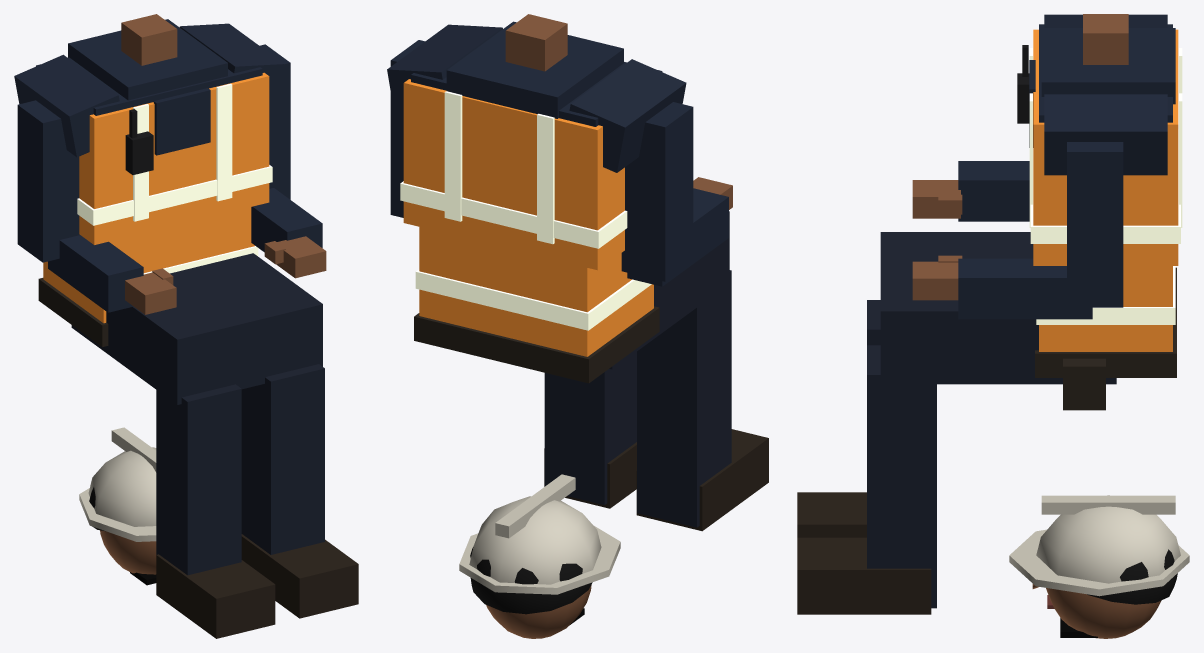
The model's file is passenger_mta.fbx.
3 renders of one model, left to right at view 1: azimuth 30°, elevation 25°; view 2: azimuth 150°, elevation 25°; view 3: azimuth 270°, elevation 25°, orthographic. The views are drawn at different scales.
Visible parts, largest first — view 1: Mesh_10, Mesh_9, Mesh_12, Mesh_11, Mesh_13, Mesh_7, Body_Skin, Mesh_15, Head_Skin, Mesh_14; view 2: Mesh_12, Mesh_9, Mesh_10, Mesh_13, Mesh_7, Mesh_15, Mesh_11, Body_Skin, Mesh_0, Head_Skin; view 3: Mesh_9, Mesh_10, Mesh_12, Mesh_7, Mesh_11, Body_Skin, Mesh_15, Mesh_13, Head_Skin, Mesh_0, Mesh_14.
Part boxes in pixels (x1=…): Mesh_10: x1=71, y1=253, x2=324, y2=575; Mesh_9: x1=14, y1=19, x2=322, y2=312; Mesh_12: x1=43, y1=72, x2=269, y2=323; Mesh_11: x1=156, y1=534, x2=358, y2=638; Mesh_13: x1=77, y1=83, x2=272, y2=274; Mesh_7: x1=79, y1=427, x2=156, y2=541; Body_Skin: x1=121, y1=14, x2=326, y2=314; Mesh_15: x1=38, y1=278, x2=108, y2=347; Head_Skin: x1=100, y1=530, x2=156, y2=574; Mesh_14: x1=125, y1=109, x2=153, y2=174; Mesh_12: x1=403, y1=79, x2=653, y2=356; Mesh_9: x1=387, y1=21, x2=728, y2=286; Mesh_10: x1=544, y1=211, x2=731, y2=527; Mesh_13: x1=400, y1=91, x2=651, y2=330; Mesh_7: x1=459, y1=474, x2=620, y2=594; Mesh_15: x1=414, y1=306, x2=659, y2=383; Mesh_11: x1=544, y1=429, x2=768, y2=531; Body_Skin: x1=505, y1=14, x2=732, y2=209; Mesh_0: x1=470, y1=547, x2=592, y2=614; Head_Skin: x1=486, y1=585, x2=591, y2=638; Mesh_9: x1=958, y1=14, x2=1175, y2=319; Mesh_10: x1=867, y1=232, x2=1116, y2=608; Mesh_12: x1=1033, y1=29, x2=1178, y2=351; Mesh_7: x1=1009, y1=495, x2=1189, y2=596; Mesh_11: x1=797, y1=492, x2=931, y2=614; Body_Skin: x1=912, y1=14, x2=1128, y2=300; Mesh_15: x1=1035, y1=267, x2=1176, y2=410; Mesh_13: x1=1029, y1=48, x2=1182, y2=324; Head_Skin: x1=1032, y1=584, x2=1161, y2=638; Mesh_0: x1=1087, y1=549, x2=1177, y2=604; Mesh_14: x1=1017, y1=45, x2=1029, y2=123.
Bounding box in the file's own units: 0.595 × 1.26 × 0.731.
